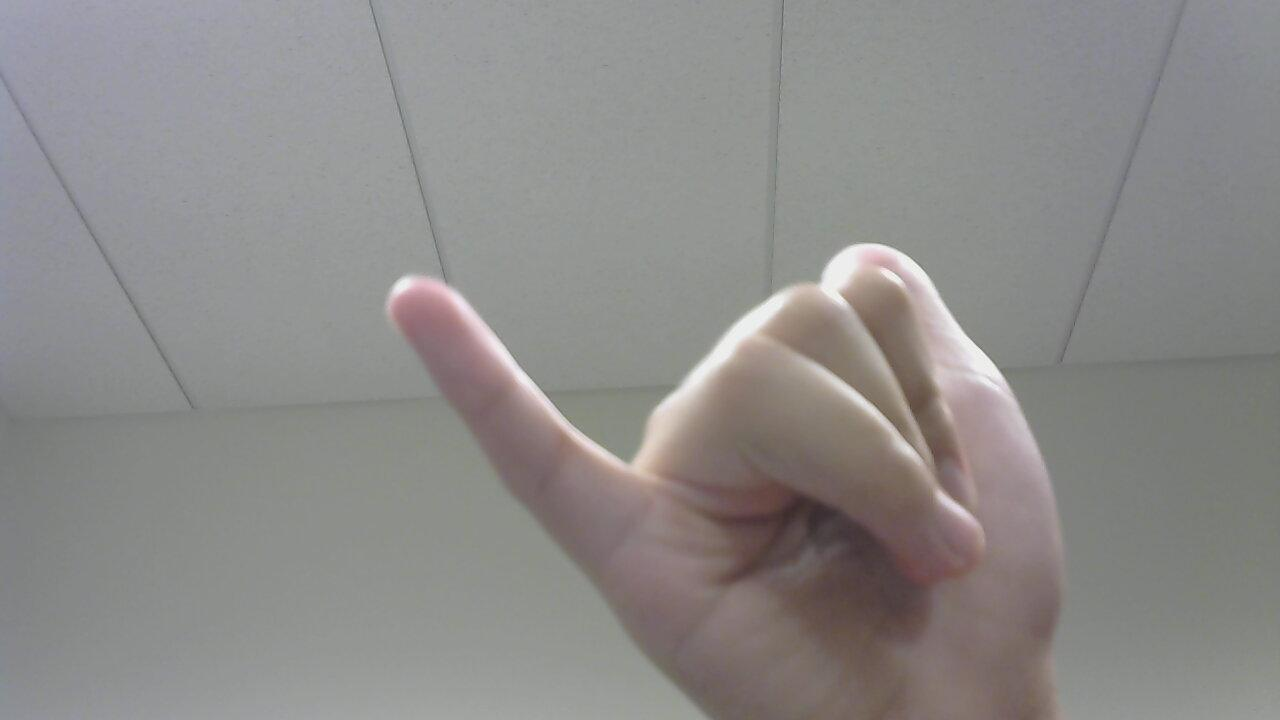hands: (371, 231, 1086, 720)
